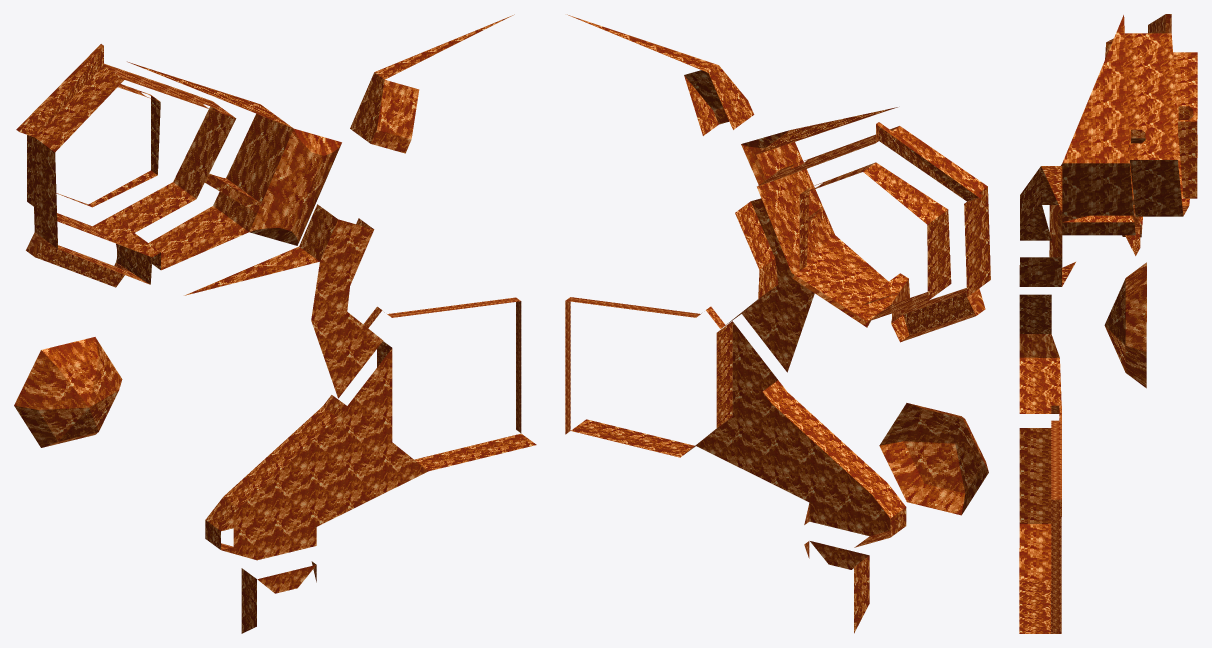
File: Shape_IndexedFaceSet.022.obj
The picture shows the model from 3 angles, left to right: view 1: azimuth 30°, elevation 25°; view 2: azimuth 150°, elevation 25°; view 3: azimuth 270°, elevation 25°; orthographic projection.
Visible parts, largest first — view 1: Shape_IndexedFaceSet.022; view 2: Shape_IndexedFaceSet.022; view 3: Shape_IndexedFaceSet.022.
Boxes of the visible parts, x1,y1,x2,y2 form: Shape_IndexedFaceSet.022: [14, 14, 536, 633]; Shape_IndexedFaceSet.022: [565, 14, 990, 633]; Shape_IndexedFaceSet.022: [1019, 14, 1197, 633].
Size of the model in its own units: 13.05 by 15.36 by 4.31.
1 material, 1 textured.
